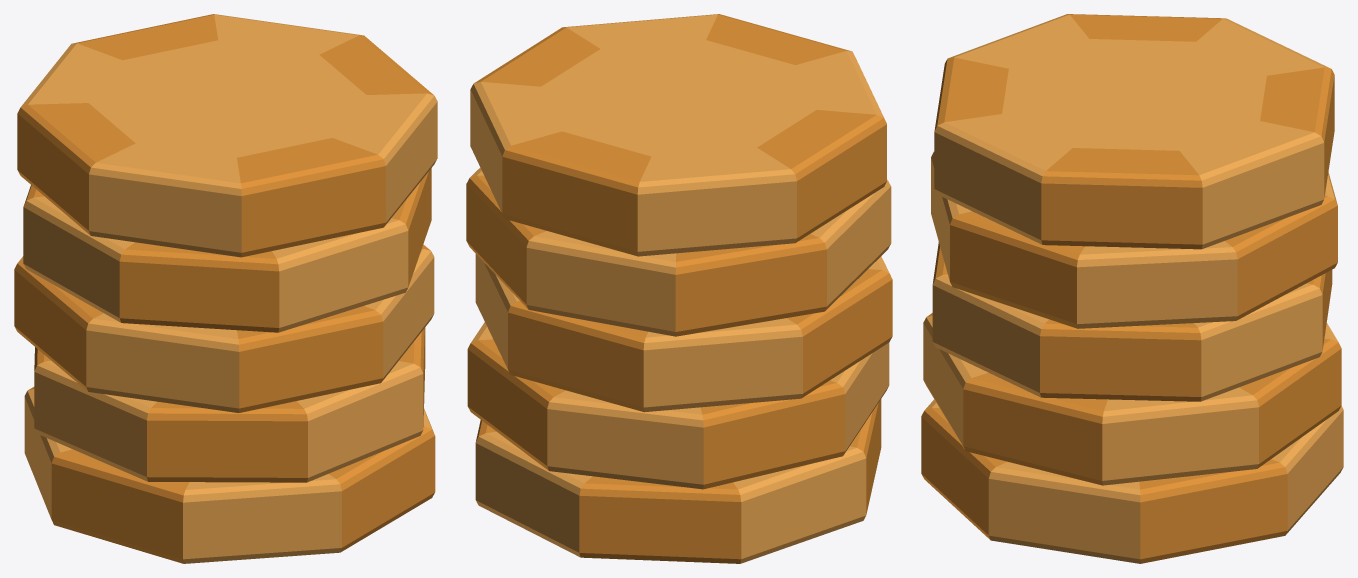
The model's file is Fichasv01.fbx.
3 views of the same model, side by side, from view 1: azimuth 30°, elevation 25°; view 2: azimuth 150°, elevation 25°; view 3: azimuth 270°, elevation 25° (orthographic).
Visible parts, largest first — view 1: Cylinder.001; view 2: Cylinder.001; view 3: Cylinder.001.
Boxes of the visible parts, <box> form: Cylinder.001: <box>14,14,437,563</box>; Cylinder.001: <box>466,14,892,563</box>; Cylinder.001: <box>921,14,1343,563</box>.
Size of the model in its own units: 1 by 1 by 1.
